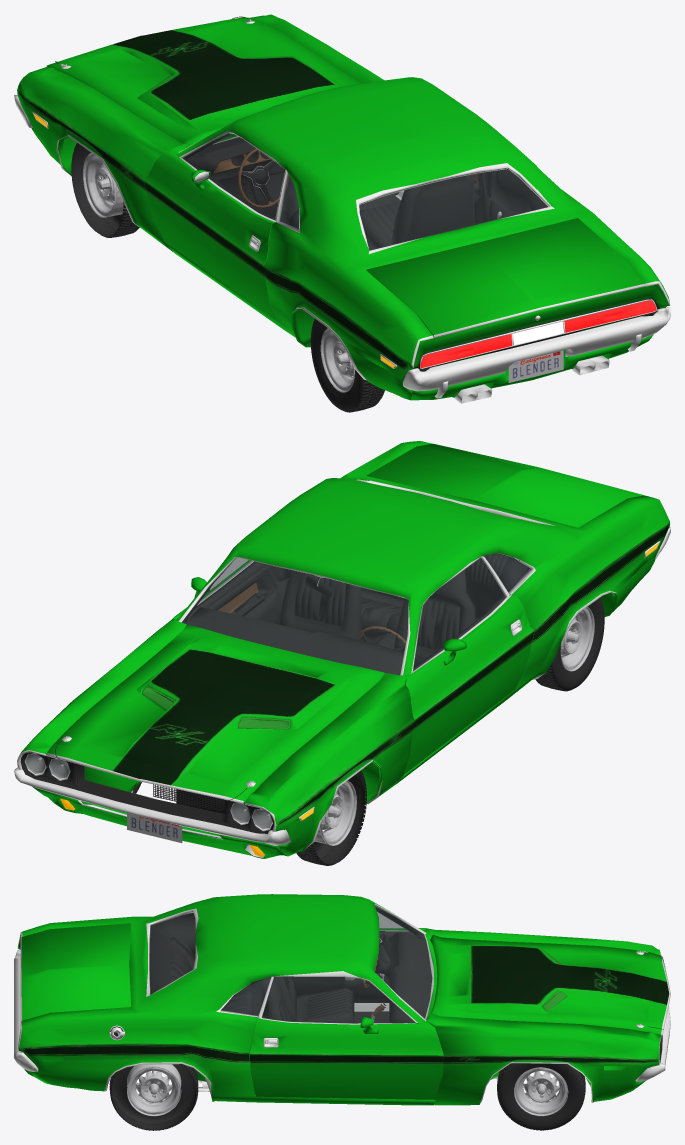
File: macchina.glb
The picture shows the model from 3 angles, top to bottom: view 1: azimuth 30°, elevation 25°; view 2: azimuth 150°, elevation 25°; view 3: azimuth 270°, elevation 25°; orthographic projection. The views are drawn at different scales.
Parts seen in each view (by area): view 1: Macchina, Portiera_S, Ruota_AS, Ruota_PS, Volante, Portiera_D; view 2: Macchina, Portiera_S, Portiera_D, Ruota_AS, Ruota_PS; view 3: Macchina, Portiera_D, Ruota_AD, Ruota_PD, Portiera_S.
Boxes of the visible parts, x1,y1,x2,y2 form: Macchina: [14, 14, 670, 412]; Portiera_S: [144, 131, 285, 318]; Ruota_AS: [71, 143, 139, 236]; Ruota_PS: [310, 318, 384, 411]; Volante: [237, 148, 289, 208]; Portiera_D: [471, 170, 496, 223]; Macchina: [14, 441, 670, 865]; Portiera_S: [403, 557, 534, 774]; Portiera_D: [160, 558, 287, 628]; Ruota_AS: [302, 771, 364, 864]; Ruota_PS: [538, 597, 604, 690]; Macchina: [14, 894, 670, 1130]; Portiera_D: [249, 977, 443, 1099]; Ruota_AD: [498, 1063, 583, 1129]; Ruota_PD: [111, 1064, 196, 1130]; Portiera_S: [292, 912, 426, 1002].
Size of the model in its own units: 1.93 by 1.31 by 4.9.
Materials: 13 (2 with a texture image).
